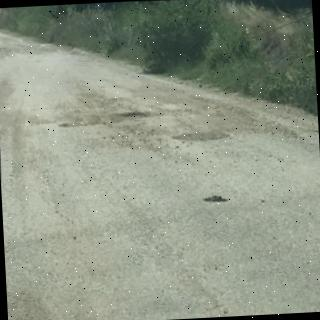pothole: (171, 130, 233, 142), (103, 113, 153, 126)
